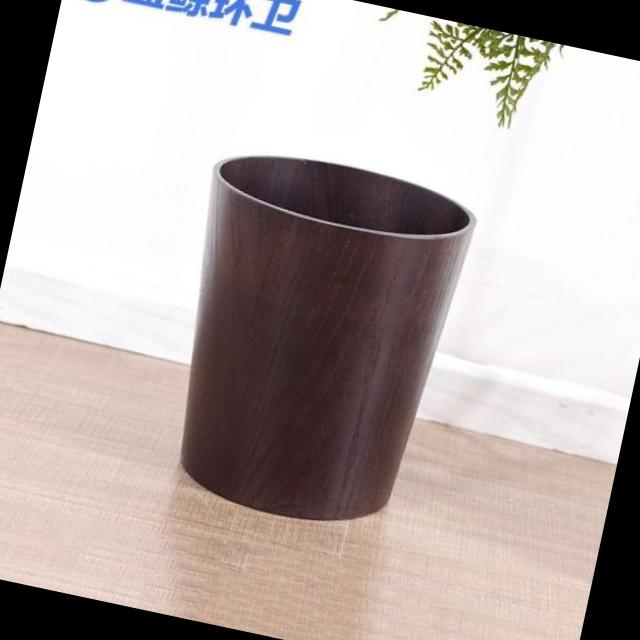dustbin: (137, 128, 489, 550)
